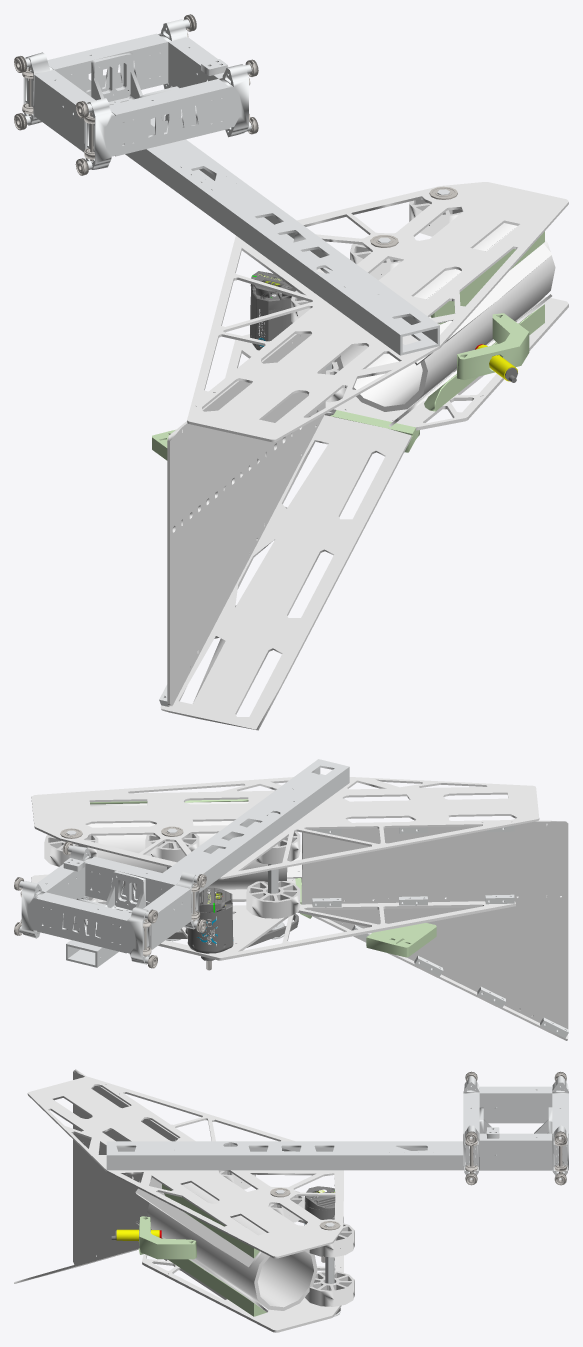
3 renders of one model, top to bottom at view 1: azimuth 30°, elevation 25°; view 2: azimuth 150°, elevation 25°; view 3: azimuth 270°, elevation 25°, orthographic. The views are drawn at different scales.
Visible parts, largest first — view 1: 10479-25-10301-Outake Plate, 10479-25-10306-Outake Plate-3, 10479-25-10305-Outake Plate-2, 10479-25-10302-Outake Tube, 2025-Coral-10479251, object 157, 10479-25-10309-Carriage Frame-1-0224 (×2), 10479-25-10312-Outake Plate-5, object 61, M6 Tapped Hole2 (×2), object 151, NONE (+2 smaller); view 2: 10479-25-10305-Outake Plate-2, 10479-25-10301-Outake Plate, 10479-25-10302-Outake Tube, 10479-25-10312-Outake Plate-5, 3IN Molded Compliant Wheel Tread VER2-1-solid1 (×4), object 61, 10479-25-10309-Carriage Frame-1-0224 (×2), 2025-Coral-10479251, M6 Tapped Hole2 (×3), object 157, NONE, object 152 (+3 smaller); view 3: 10479-25-10301-Outake Plate, 10479-25-10302-Outake Tube, 10479-25-10305-Outake Plate-2, 2025-Coral-10479251, 10479-25-10309-Carriage Frame-1-0224 (×2), 10479-25-10312-Outake Plate-5, 3IN Molded Compliant Wheel Tread VER2-1-solid1 (×3), 10479-25-10308-Outake Plate-4 (×2), object 151, M6 Tapped Hole2 (×2), 10479-25-10307-Outake Plate Block-1-0219, NONE (+6 smaller).
Boxes of the visible parts, x1,y1,x2,y2 form: 10479-25-10301-Outake Plate: (187, 182, 568, 442); 10479-25-10306-Outake Plate-3: (160, 415, 411, 730); 10479-25-10305-Outake Plate-2: (167, 333, 325, 706); 10479-25-10302-Outake Tube: (125, 117, 439, 355); 2025-Coral-10479251: (336, 223, 555, 411); object 157: (109, 79, 229, 156); 10479-25-10309-Carriage Frame-1-0224 (×2): (34, 37, 228, 152); 10479-25-10312-Outake Plate-5: (225, 296, 568, 430); object 61: (47, 33, 168, 96); M6 Tapped Hole2 (×2): (84, 64, 248, 169); object 151: (457, 313, 529, 379); NONE: (250, 271, 292, 350); 10479-25-10305-Outake Plate-2: (301, 820, 568, 1028); 10479-25-10301-Outake Plate: (31, 777, 539, 879); 10479-25-10302-Outake Tube: (66, 759, 349, 967); 10479-25-10312-Outake Plate-5: (31, 874, 515, 960); 3IN Molded Compliant Wheel Tread VER2-1-solid1 (×4): (44, 831, 300, 918); object 61: (36, 892, 131, 953); 10479-25-10309-Carriage Frame-1-0224 (×2): (37, 863, 190, 950); 2025-Coral-10479251: (87, 821, 287, 889); M6 Tapped Hole2 (×3): (21, 871, 199, 964); object 157: (85, 856, 180, 905); NONE: (185, 887, 233, 970); object 152: (366, 923, 436, 957); 10479-25-10301-Outake Plate: (27, 1076, 343, 1258); 10479-25-10302-Outake Tube: (106, 1141, 568, 1170); 10479-25-10305-Outake Plate-2: (73, 1069, 178, 1264); 2025-Coral-10479251: (147, 1182, 317, 1310); 10479-25-10309-Carriage Frame-1-0224 (×2): (479, 1086, 552, 1170); 10479-25-10312-Outake Plate-5: (142, 1219, 343, 1332); 3IN Molded Compliant Wheel Tread VER2-1-solid1 (×3): (269, 1190, 354, 1306); 10479-25-10308-Outake Plate-4 (×2): (135, 1177, 267, 1312); object 151: (139, 1216, 196, 1259); M6 Tapped Hole2 (×2): (463, 1125, 568, 1175); 10479-25-10307-Outake Plate Block-1-0219: (204, 1270, 266, 1316); NONE: (304, 1190, 343, 1262).
Size of the model in its own units: 0.6872 by 0.4372 by 0.8402.
